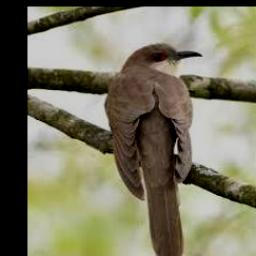Cuckoo: (105, 43, 202, 256)
